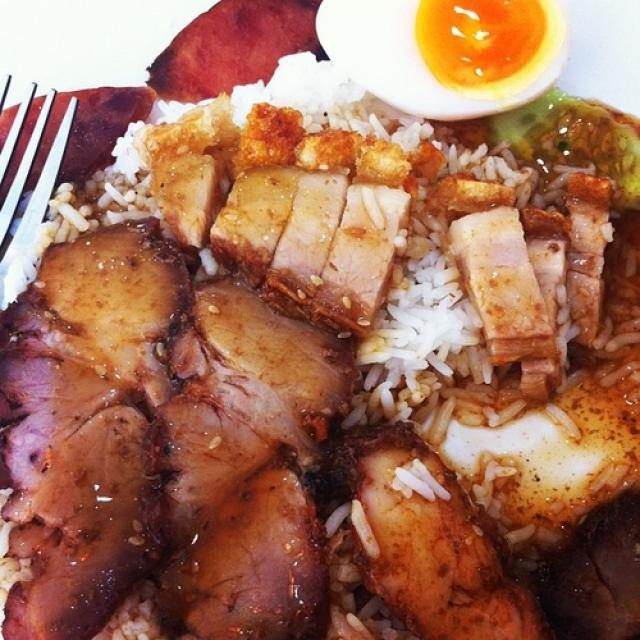猪肉菜式: (36, 82, 617, 621)
